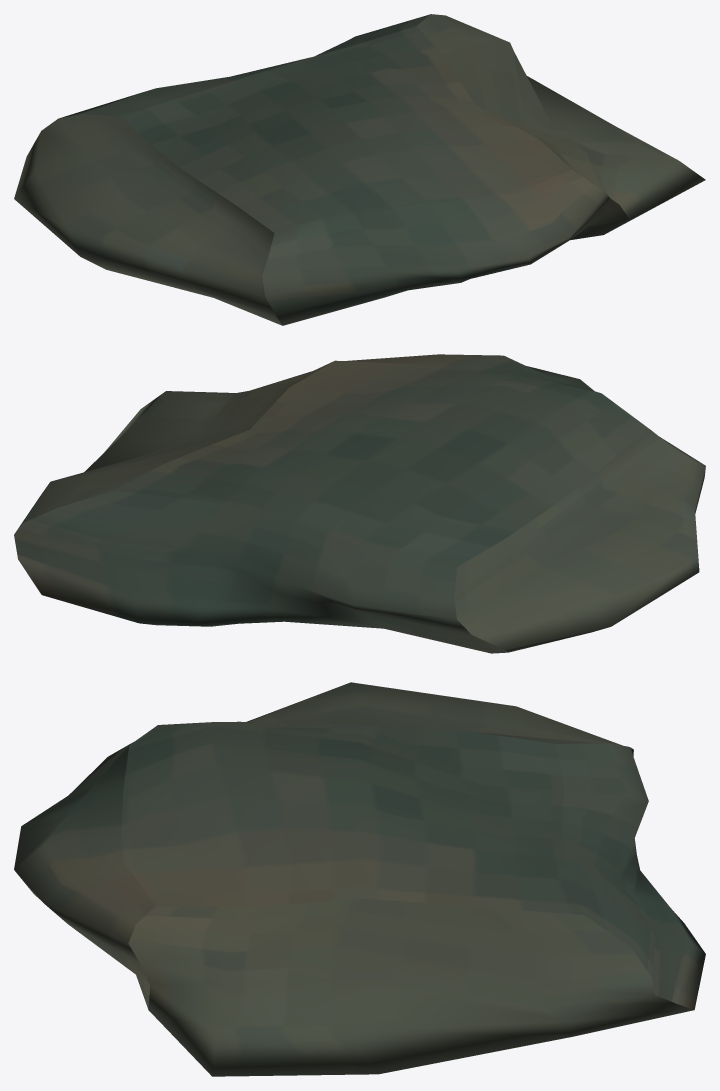
The model's file is Debris1.fbx.
The picture shows the model from 3 angles, top to bottom: view 1: azimuth 30°, elevation 25°; view 2: azimuth 150°, elevation 25°; view 3: azimuth 270°, elevation 25°; orthographic projection. The views are drawn at different scales.
Visible parts, largest first — view 1: pCube1; view 2: pCube1; view 3: pCube1.
Boxes of the visible parts, x1,y1,x2,y2 form: pCube1: [14, 14, 705, 325]; pCube1: [14, 354, 705, 653]; pCube1: [14, 682, 705, 1076].
Size of the model in its own units: 15.17 by 3.13 by 13.23.
